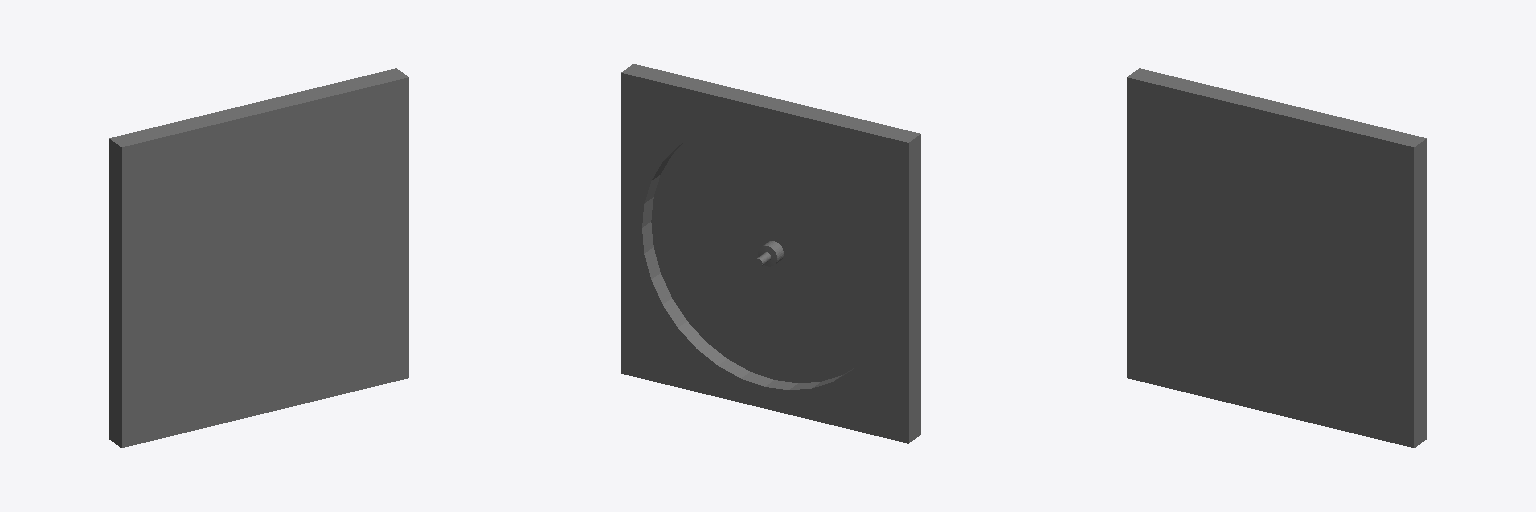
3 renders of one model, left to right at view 1: azimuth 30°, elevation 25°; view 2: azimuth 150°, elevation 25°; view 3: azimuth 330°, elevation 25°, orthographic.
Parts seen in each view (by area): view 1: 立方体; view 2: 立方体; view 3: 立方体.
Boxes of the visible parts, box(x1,y1,x2,y2) form: 立方体: box(109, 68, 408, 447); 立方体: box(621, 64, 920, 443); 立方体: box(1127, 68, 1426, 447).
Size of the model in its own units: 26 by 26 by 2.92.
1 materials, 1 textured.